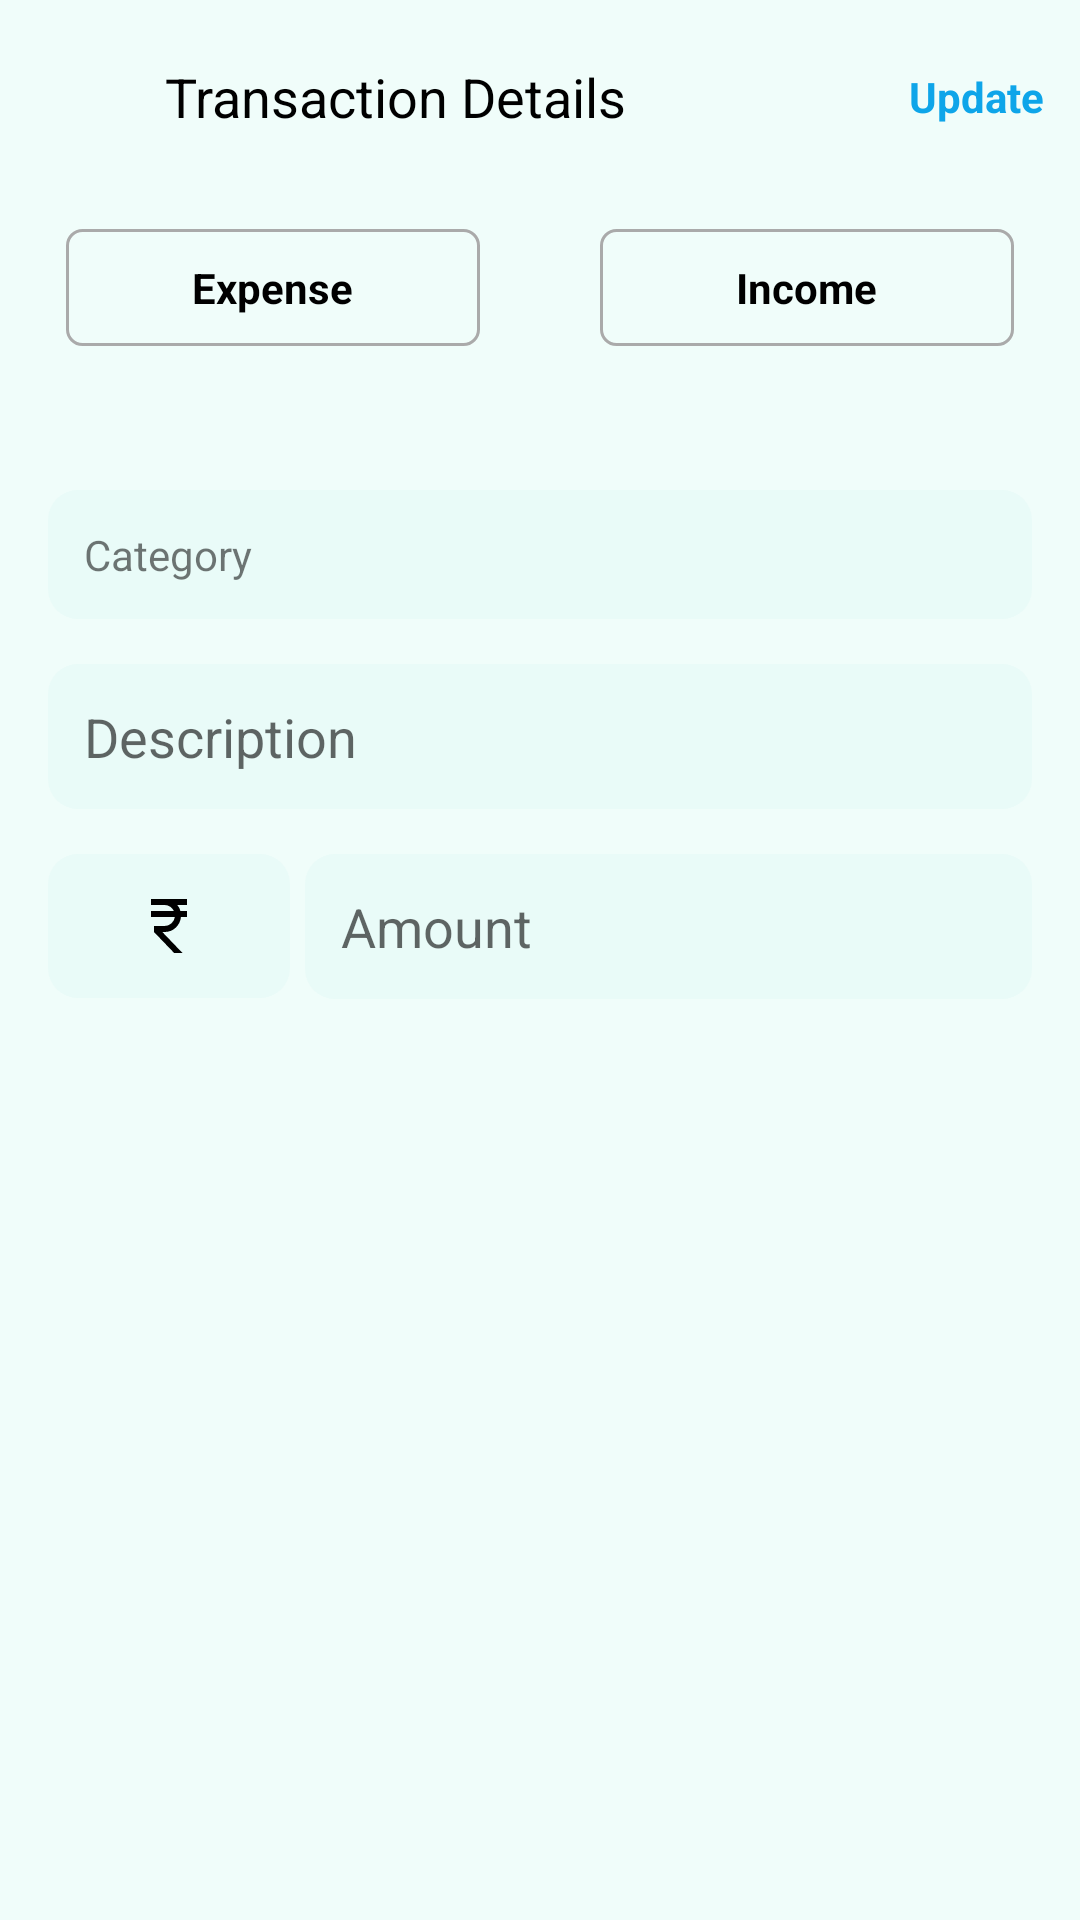

Locate icon controls on the screen. Image size 1080x1920, boxes as (x1, y1, x2, y2).
rupee: (151, 899, 187, 953)
